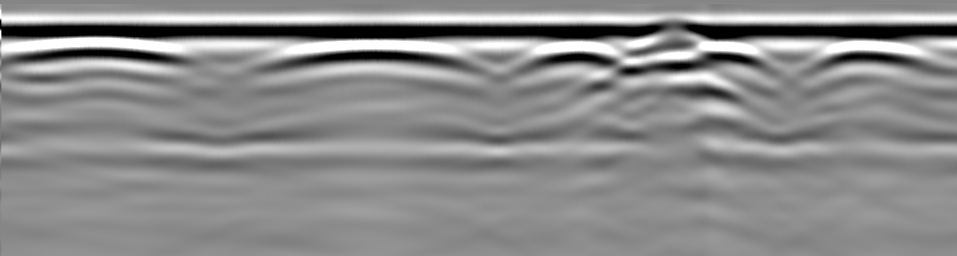pipe: (624, 22, 719, 48)
steel: (264, 40, 491, 73), (2, 39, 201, 67), (512, 41, 621, 68), (814, 41, 931, 66), (691, 41, 766, 67)
